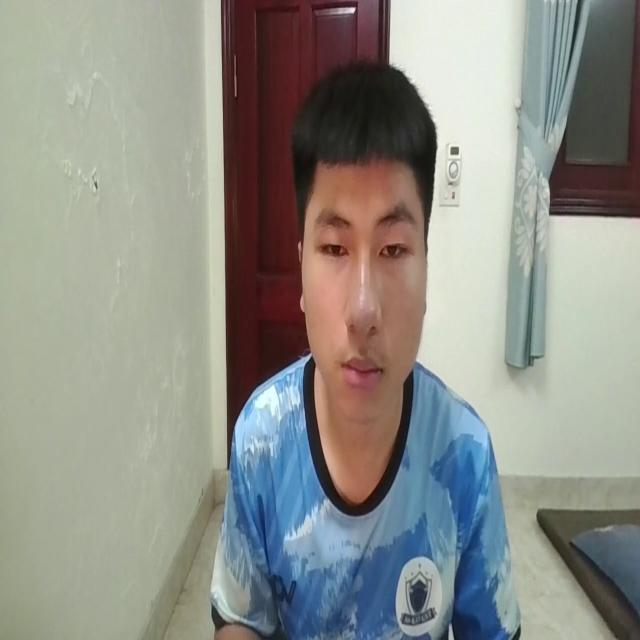student: (212, 53, 516, 640)
